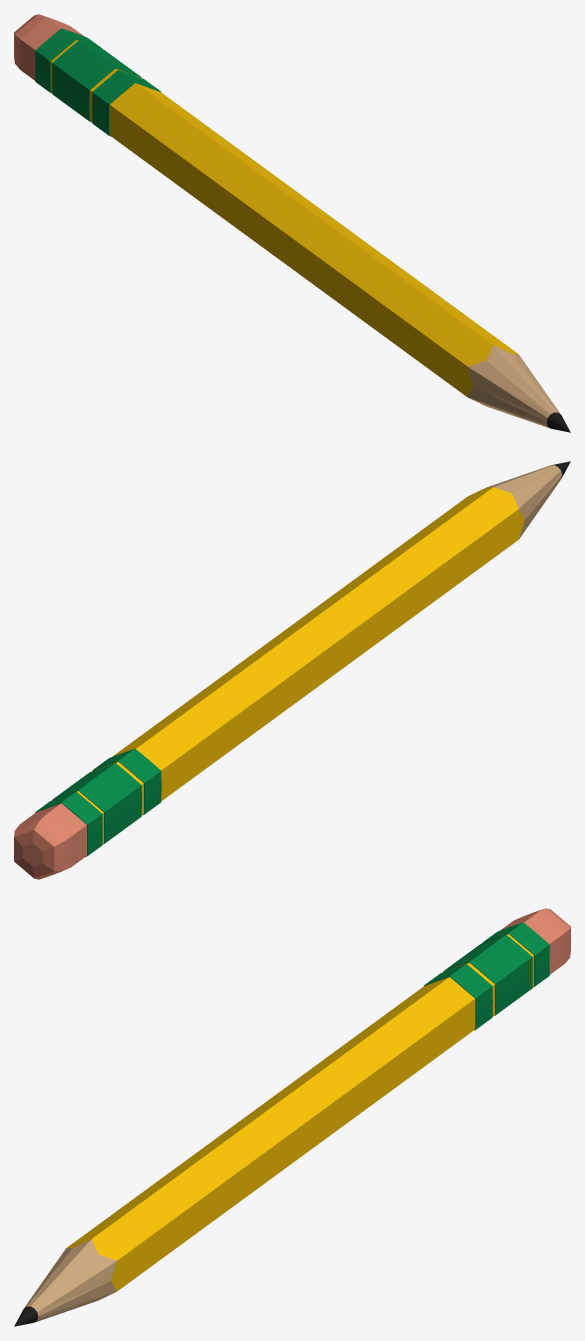
File: pencil.glb
The picture shows the model from 3 angles, top to bottom: view 1: azimuth 30°, elevation 25°; view 2: azimuth 150°, elevation 25°; view 3: azimuth 330°, elevation 25°; orthographic projection.
Parts seen in each view (by area): view 1: pencil; view 2: pencil; view 3: pencil.
Part boxes in pixels (x1,y1,x2,y2): pencil: (14, 14, 570, 432); pencil: (14, 461, 570, 879); pencil: (14, 908, 570, 1326).
Bounding box in the file's own units: 0.0101 × 0.0116 × 0.18.
